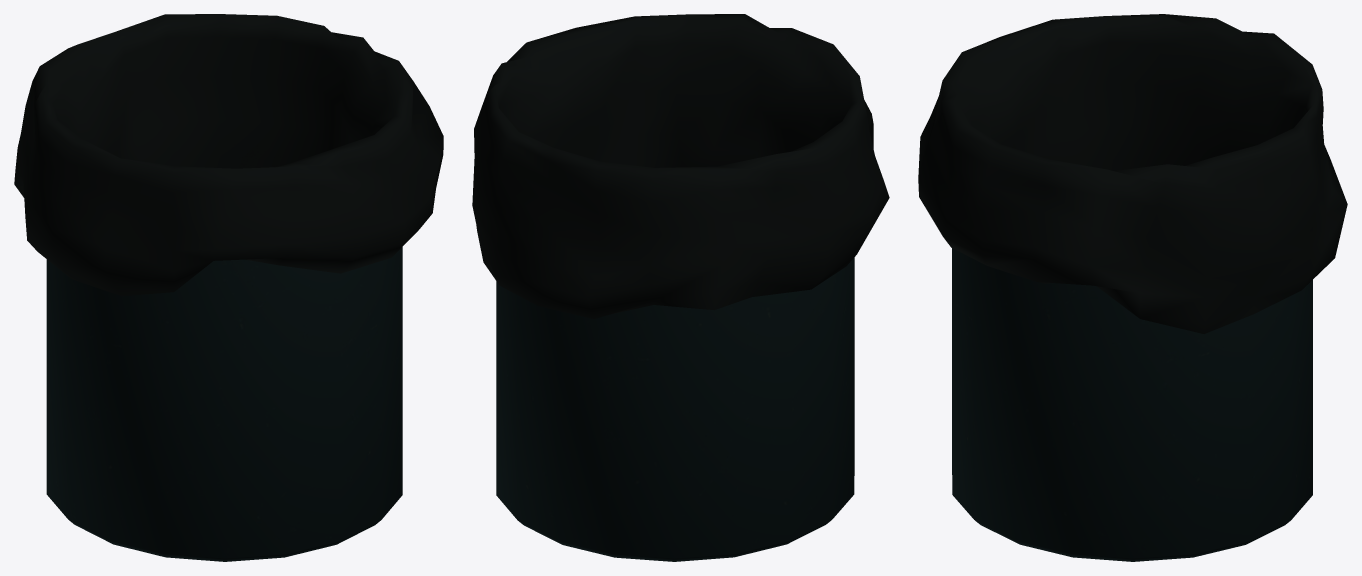
The model's file is trash_can.glb.
The picture shows the model from 3 angles, left to right: view 1: azimuth 30°, elevation 25°; view 2: azimuth 150°, elevation 25°; view 3: azimuth 270°, elevation 25°; orthographic projection.
Visible parts, largest first — view 1: transform1; view 2: transform1; view 3: transform1.
Part boxes in pixels (x1,y1,x2,y2): transform1: [14, 14, 443, 561]; transform1: [472, 14, 889, 561]; transform1: [918, 14, 1347, 561].
Size of the model in its own units: 24.05 by 24 by 23.31.
2 materials, 1 textured.
